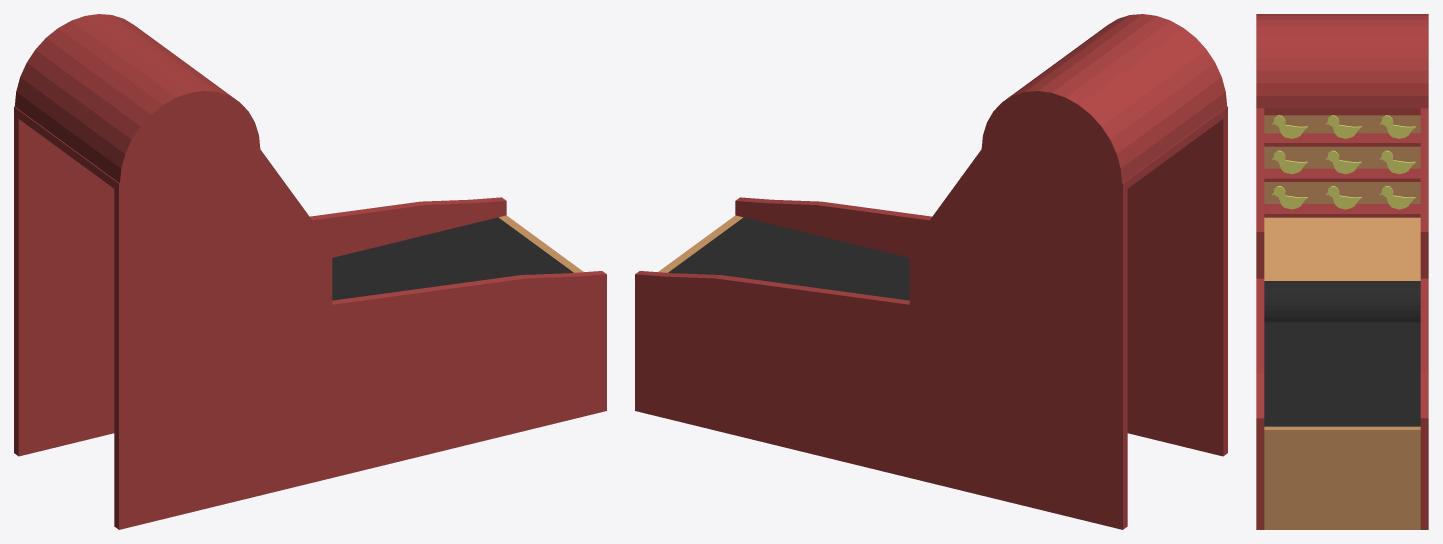
File: CajaPinPonPumR.fbx
3 renders of one model, left to right at view 1: azimuth 30°, elevation 25°; view 2: azimuth 150°, elevation 25°; view 3: azimuth 270°, elevation 25°, orthographic. The views are drawn at different scales.
Parts seen in each view (by area): view 1: Cube.021, Cube.020, Cube.022, Cylinder.020, Cube.025, Cube.024, Cube.023, Cube.019; view 2: Cube.022, Cube.024, Cube.021, Cylinder.020, Cube.025, Cube.020, Cube.023, Cube.019; view 3: Cube.025, Cylinder.020, Cube.019, Cube.026, Cube.027, Cylinder.021, Cube.028, Plane, Cube.020, Cube.024, Cube.021, Cube.022 (+1 smaller).
Part boxes in pixels (bbox=[...]): Cube.021: bbox=[114, 149, 332, 529]; Cube.020: bbox=[332, 271, 606, 477]; Cube.022: bbox=[14, 106, 114, 456]; Cylinder.020: bbox=[14, 14, 260, 183]; Cube.025: bbox=[332, 217, 573, 300]; Cube.024: bbox=[310, 197, 506, 257]; Cube.023: bbox=[18, 110, 114, 188]; Cube.019: bbox=[499, 215, 583, 272]; Cube.022: bbox=[909, 149, 1127, 529]; Cube.024: bbox=[635, 271, 909, 477]; Cube.021: bbox=[1127, 106, 1227, 456]; Cylinder.020: bbox=[981, 14, 1227, 183]; Cube.025: bbox=[668, 217, 909, 300]; Cube.020: bbox=[735, 197, 931, 257]; Cube.023: bbox=[1127, 110, 1223, 188]; Cube.019: bbox=[658, 215, 742, 272]; Cube.025: bbox=[1264, 322, 1420, 426]; Cylinder.020: bbox=[1256, 14, 1428, 108]; Cube.019: bbox=[1264, 426, 1420, 529]; Cube.026: bbox=[1264, 217, 1420, 280]; Cube.027: bbox=[1264, 115, 1420, 203]; Cylinder.021: bbox=[1264, 281, 1420, 322]; Cube.028: bbox=[1264, 133, 1420, 217]; Plane: bbox=[1272, 115, 1415, 209]; Cube.020: bbox=[1256, 278, 1264, 529]; Cube.024: bbox=[1420, 278, 1428, 529]; Cube.021: bbox=[1256, 108, 1264, 278]; Cube.022: bbox=[1420, 108, 1428, 278].
Size of the model in its own units: 589 by 485 by 220.
